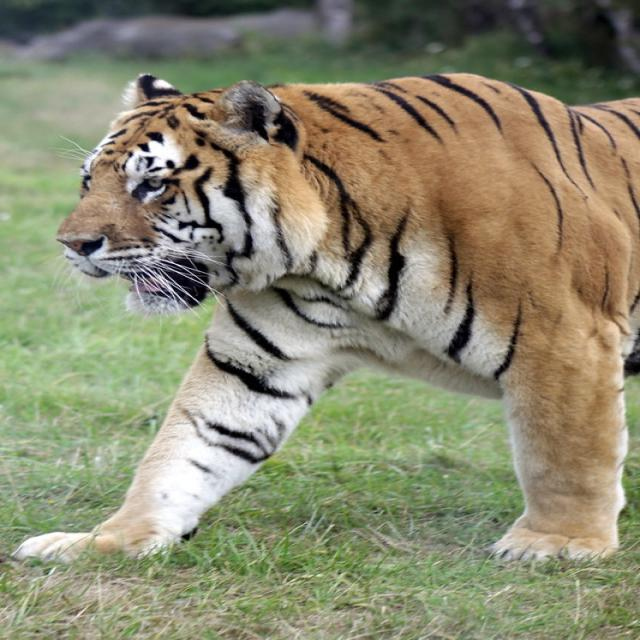Tiger: (25, 63, 630, 560)
